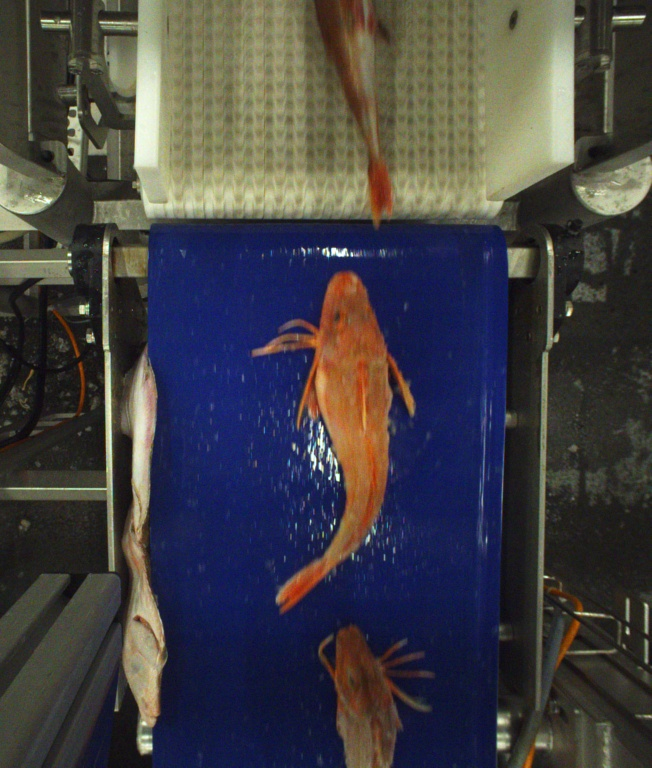GUU: (251, 270, 417, 619)
